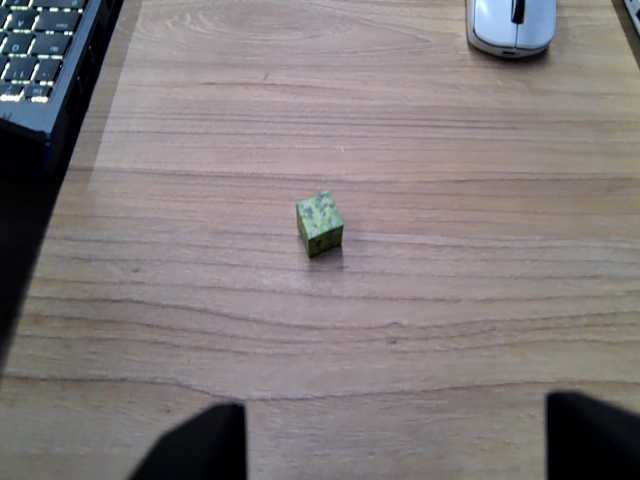grass: (290, 191, 348, 258)
